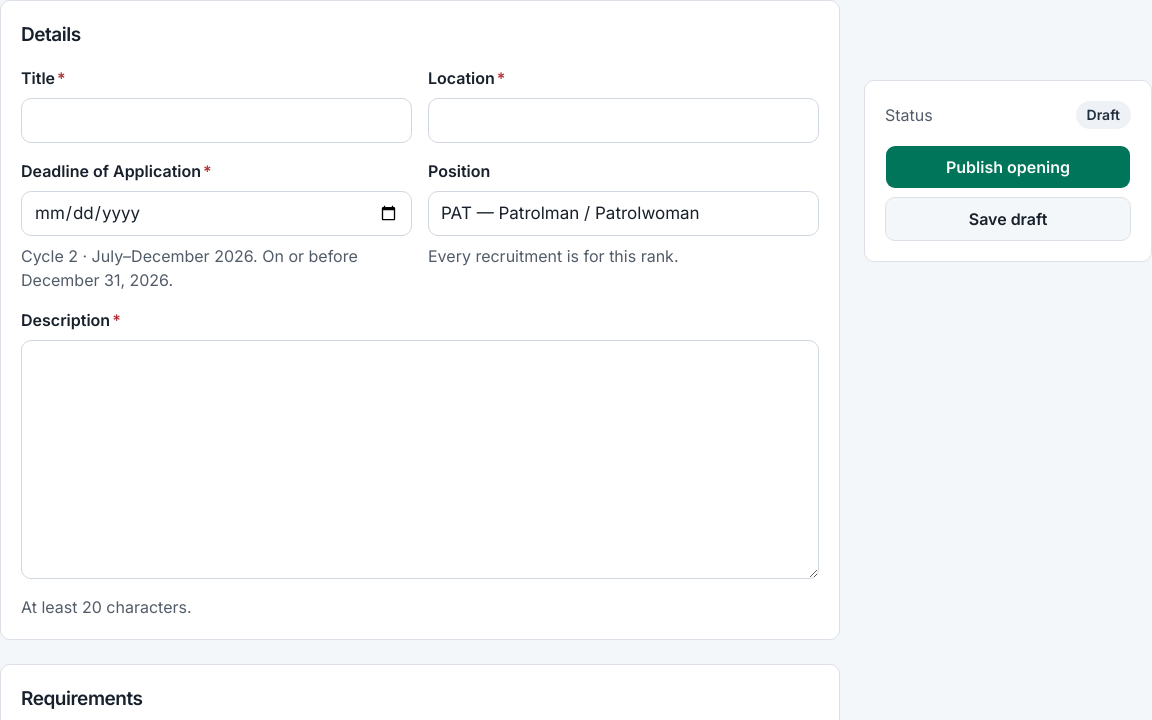
it: HrJobForm › has no department or rank fields and requires title, location, and deadline of application
The width and height of the screenshot is (1152, 720).
Expected: the field labelled "Position" holds "PAT — Patrolman / Patrolwoman", [428,191,819,236]
Click the button "Save draft": (1008, 219) [885,197,1131,241]
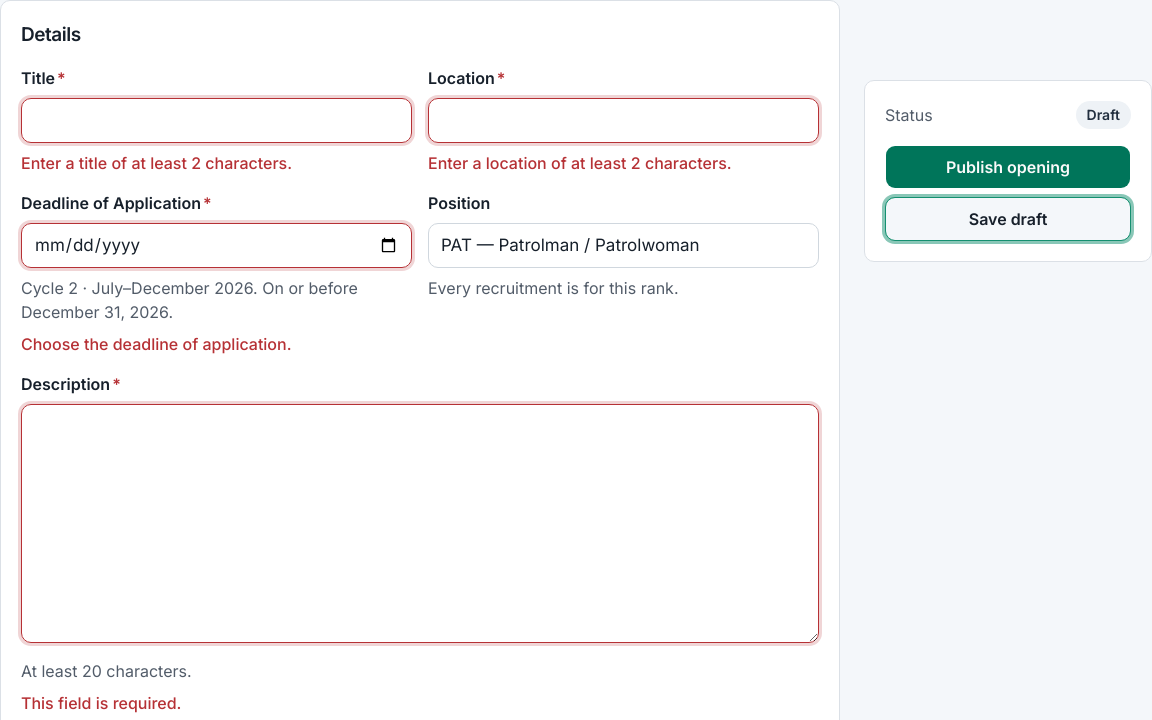
Expected: the text "Enter a location of at least 2 characters." is shown, [428,153,732,173]
Expected: the text "Enter a title of at least 2 characters." is shown, [21,153,292,173]
Expected: the text "Choose the deadline of application." is shown, [21,334,292,354]
